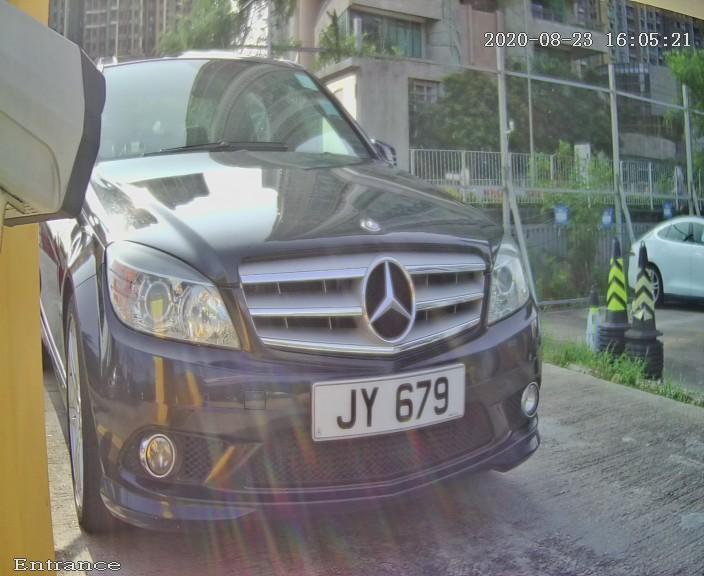Car: (29, 6, 595, 556)
License Plate: (305, 358, 472, 445)
